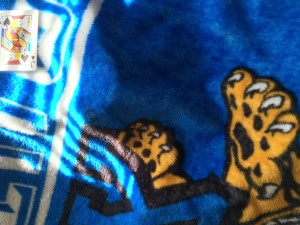JackOfSpades: (1, 5, 41, 74)
